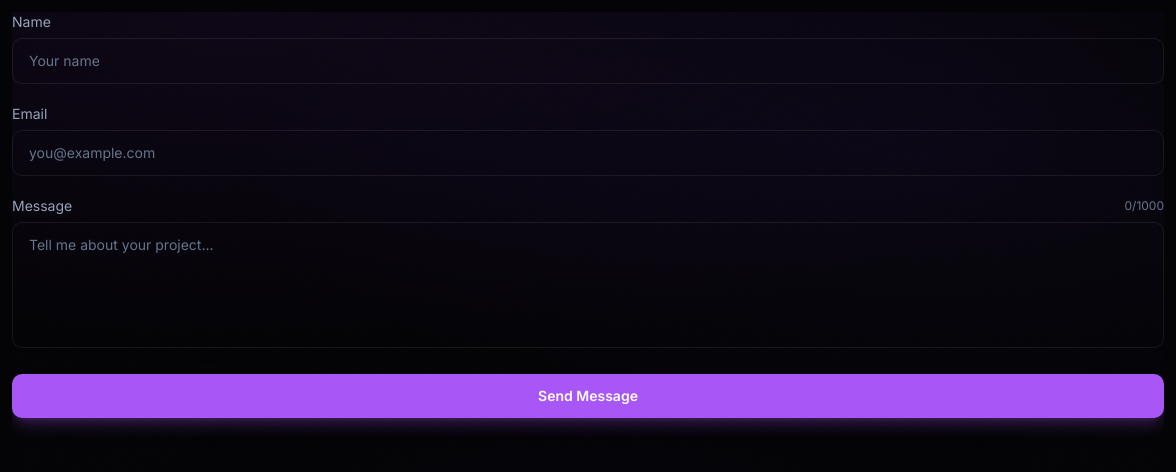
Test: ContactForm › shows validation error when message is empty on submit
Type "Jane" into the field labelled "Name" at (588, 61), box [12,38,1164,84]
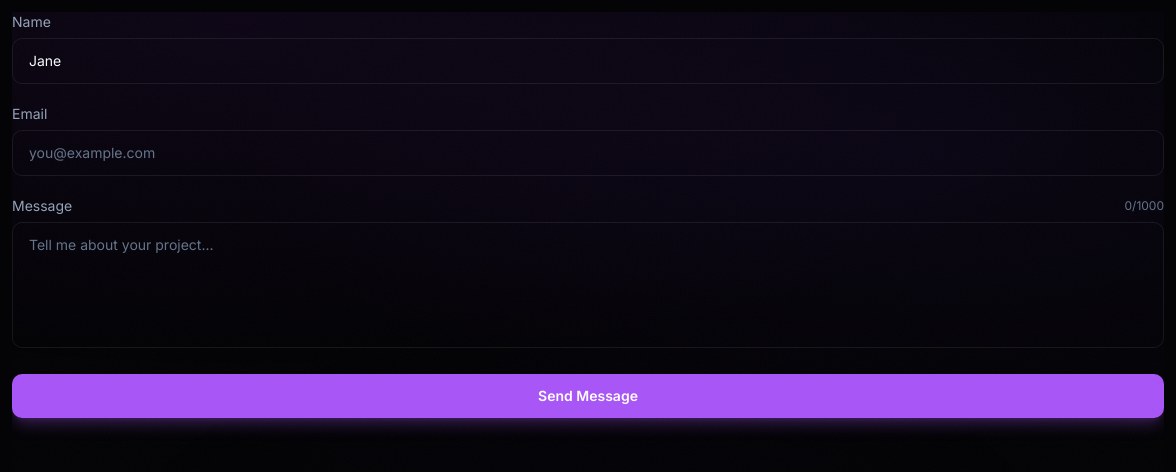
Type "jane@example.com" into the field labelled "Email" at (588, 153), box [12,130,1164,176]
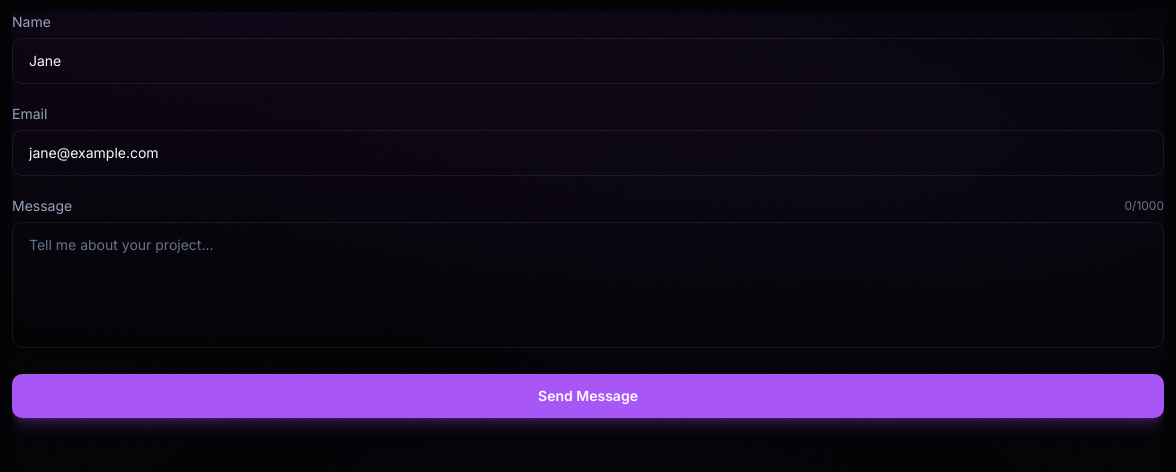
Click the button "Send Message" at (588, 396), box [12,374,1164,418]
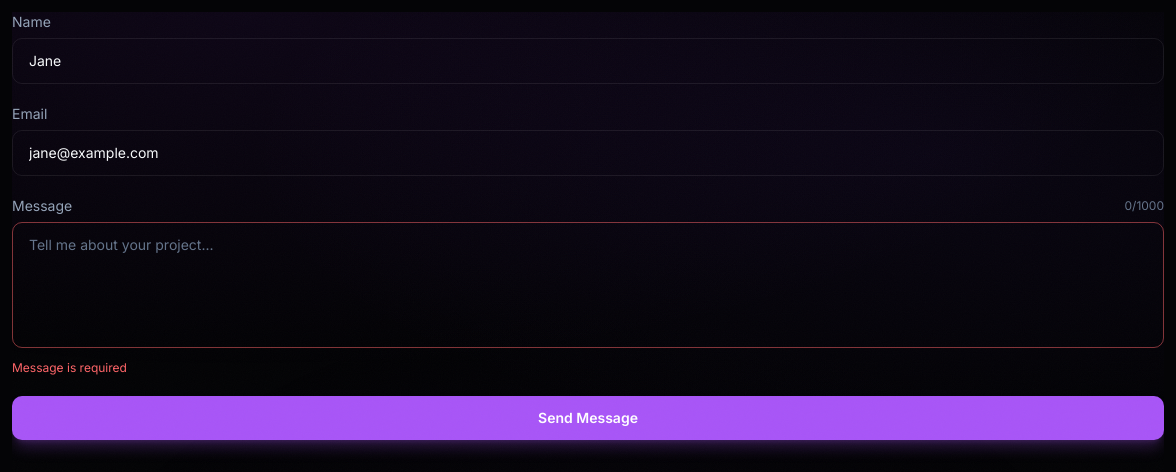
Result: the text with test id "message-error" reads "Message is required" at [12,360,127,375]
